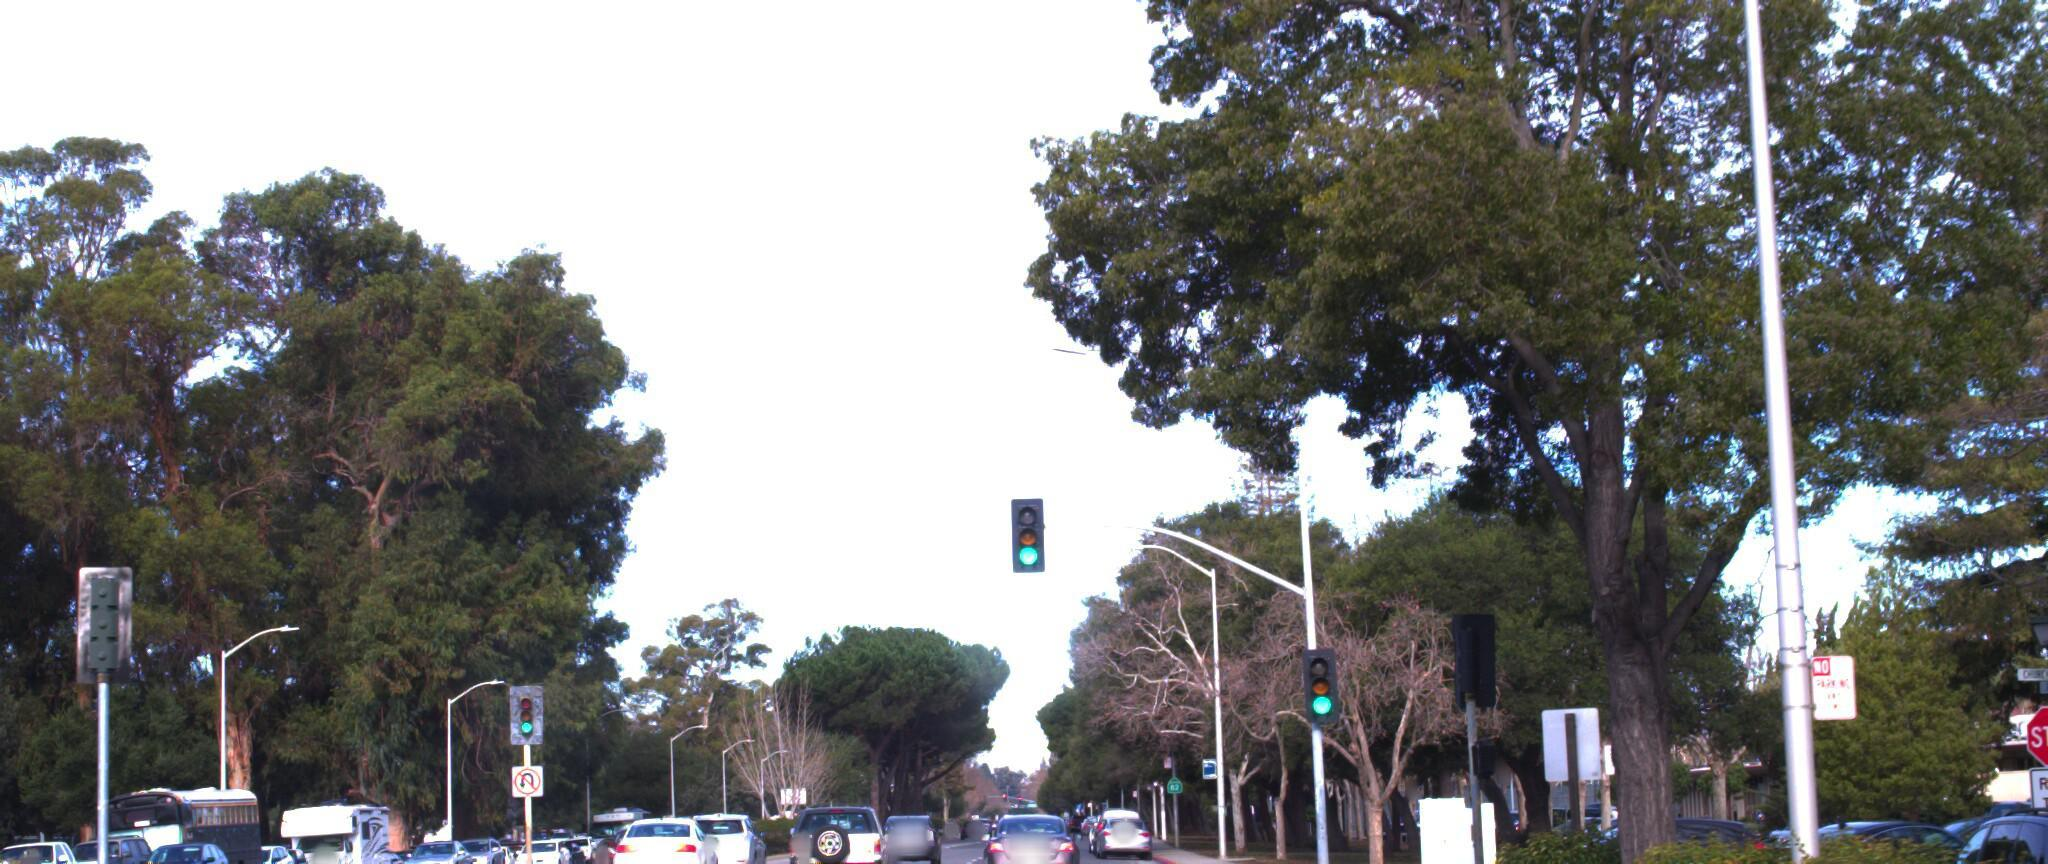car: (1873, 769, 2048, 864), (775, 782, 895, 864), (968, 790, 1078, 864), (600, 803, 726, 864), (690, 797, 782, 864), (114, 814, 225, 864)
